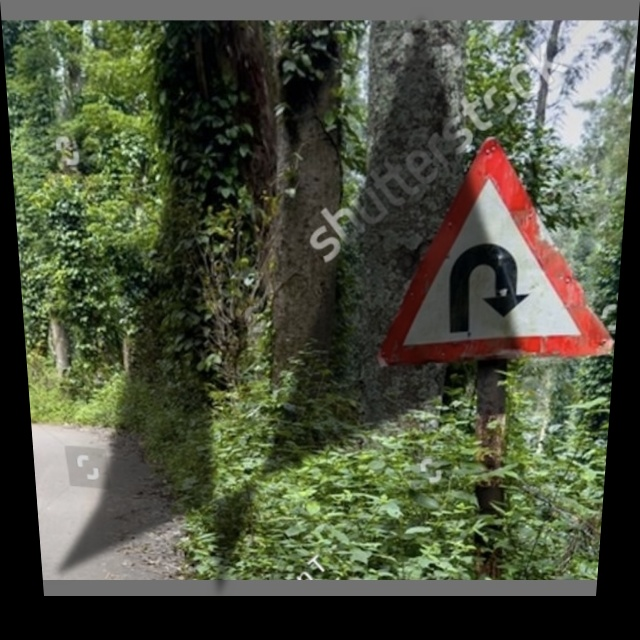Right_Hair_Pin_Bend: (388, 135, 628, 356)
